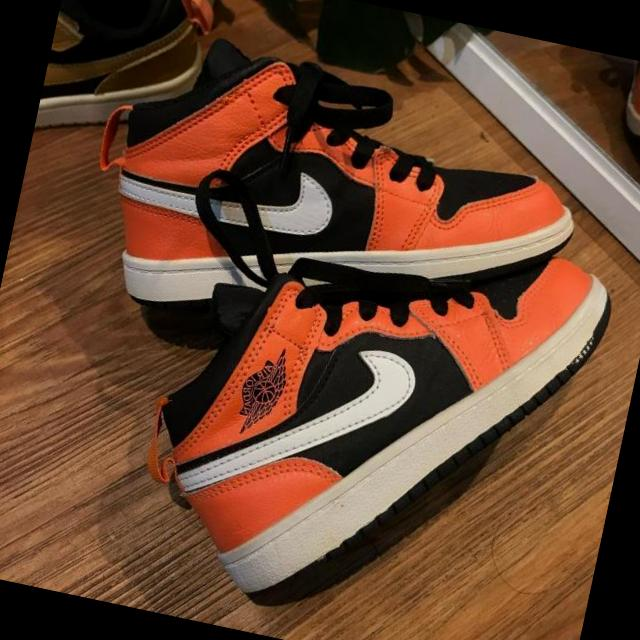nike_fake_jordan: (123, 180, 619, 640), (85, 19, 598, 396)
